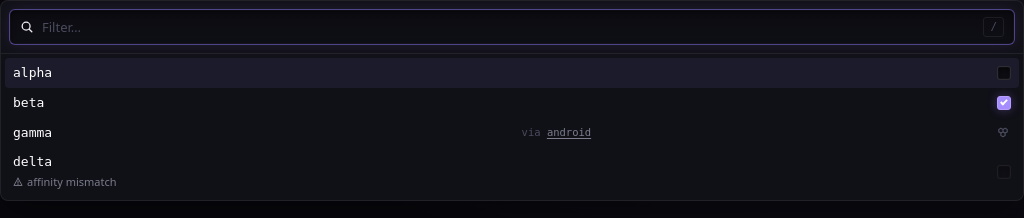
it: EquipPicker › filters the target list by search
This screenshot has width=1024, height=218.
Step 1. Type "bet" into the field with placeholder "Filter…" → (509, 27), box [42, 18, 975, 36]
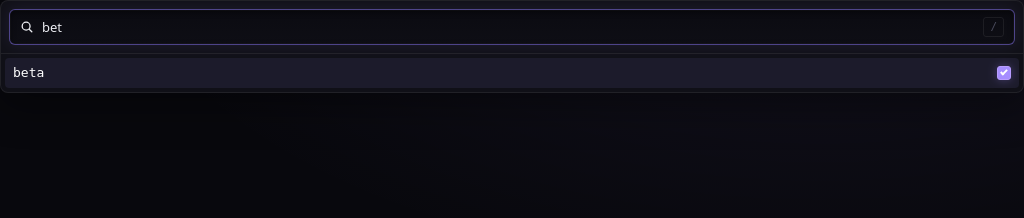
Expected: the option "beta" is shown, [5, 58, 1019, 88]
Expected: the option "alpha" is gone
